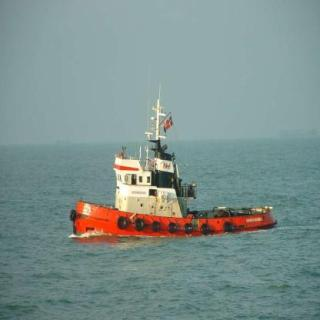Tug Boat: (68, 104, 270, 238)
